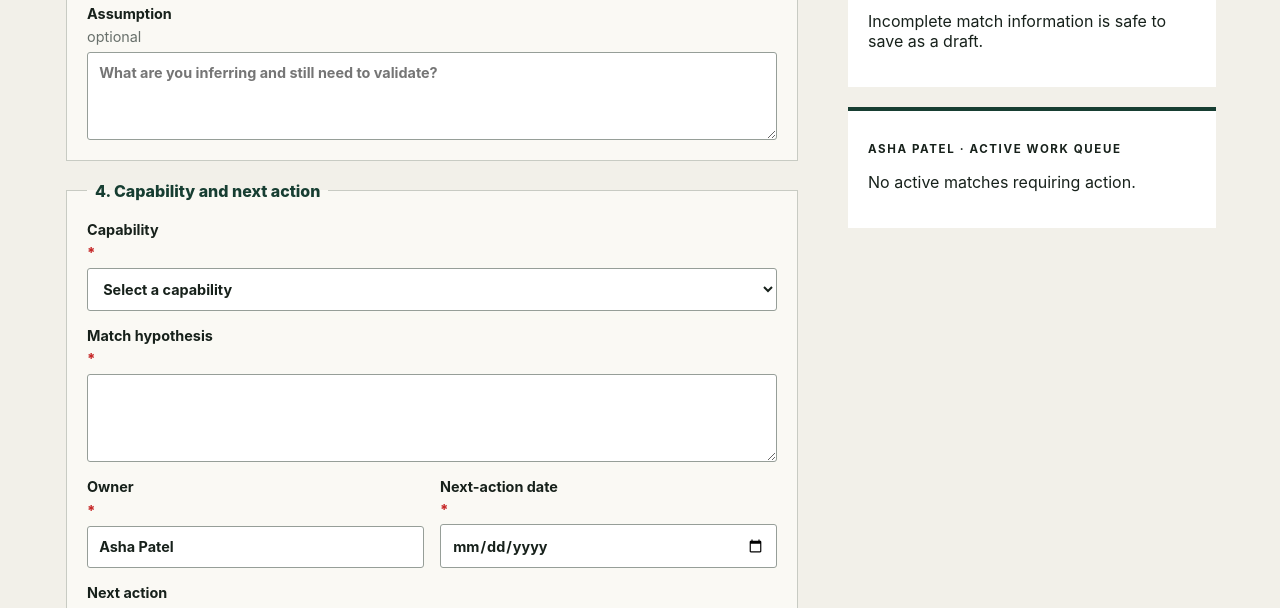
Test: Prospect capability match › shows SaaS context and saves incomplete evidence as a draft
(page scrolled)
Select "11111111-1111-1111-1111-111111111111" in the dropdown labelled "Capability *" at (432, 289), box [87, 268, 777, 311]
(page scrolled)
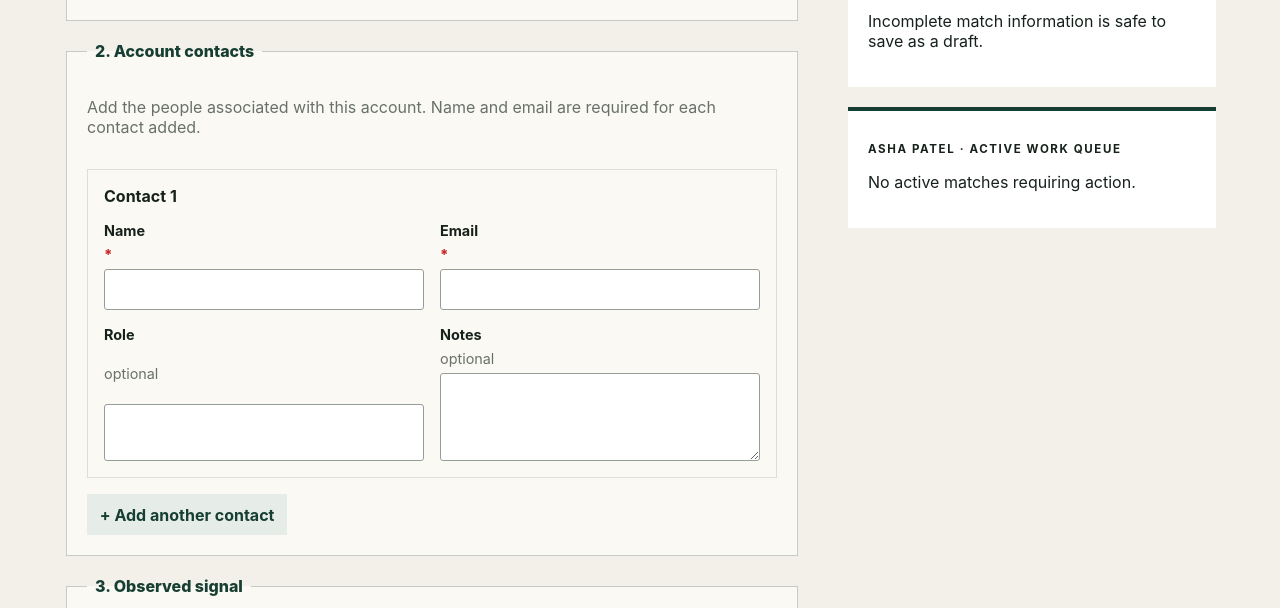
Type "Mina Shah" into the field labelled "Name *" at (264, 290), box [104, 269, 424, 310]
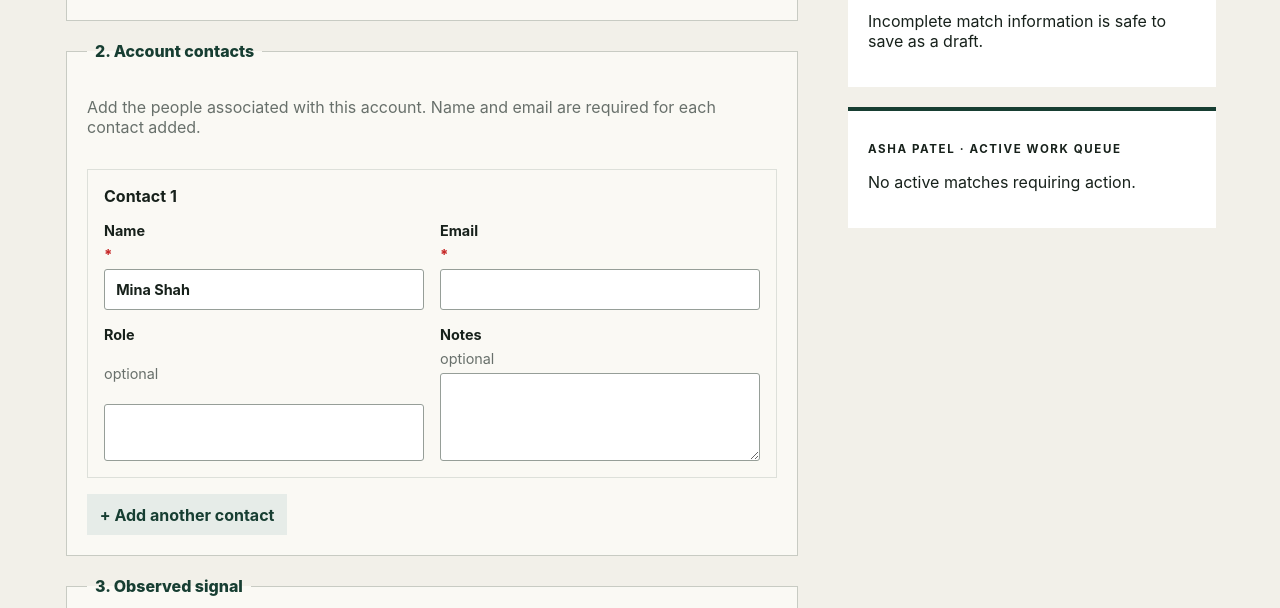
Type "mina@example.com" into the field labelled "Email *" at (600, 290), box [440, 269, 760, 310]
(page scrolled)
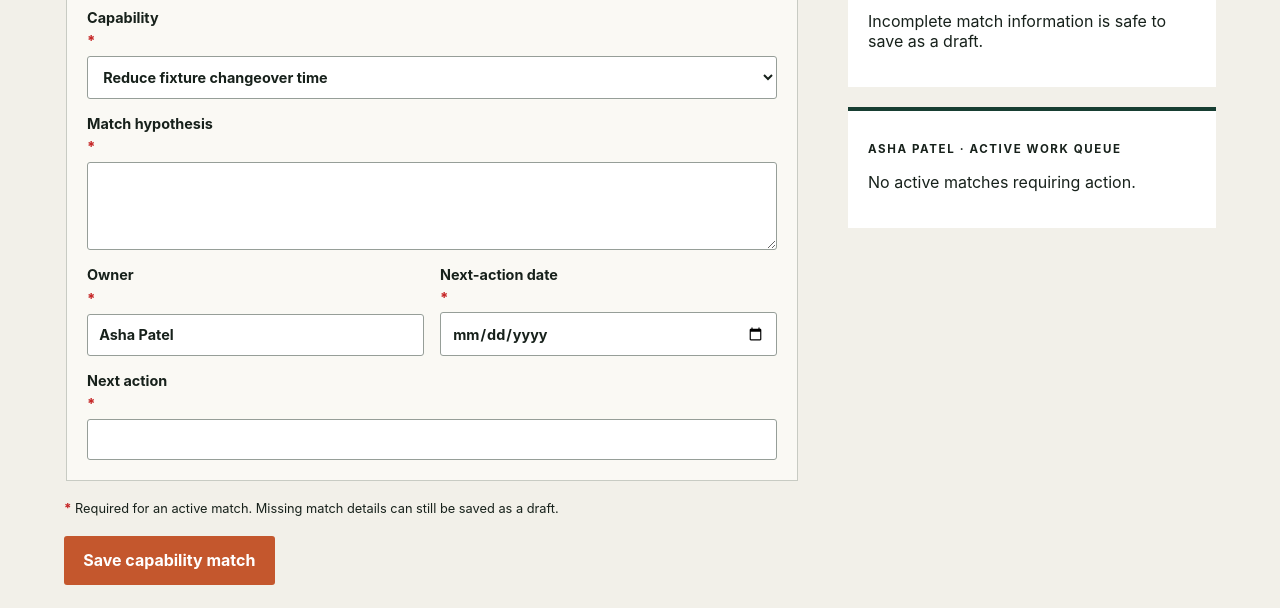
Click the button "Save capability match" at (169, 560), box [64, 536, 275, 585]
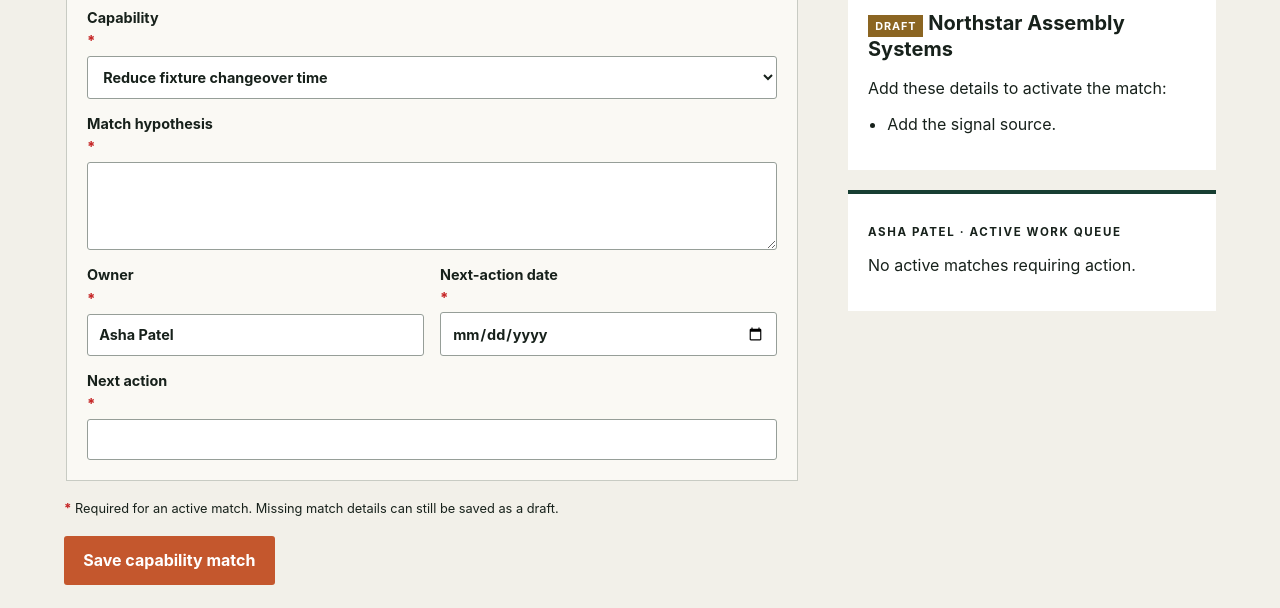
expect the text "DRAFT" is shown: met, box [868, 15, 924, 37]
expect the list item "Add the signal source." is shown: met, box [887, 114, 1056, 134]
